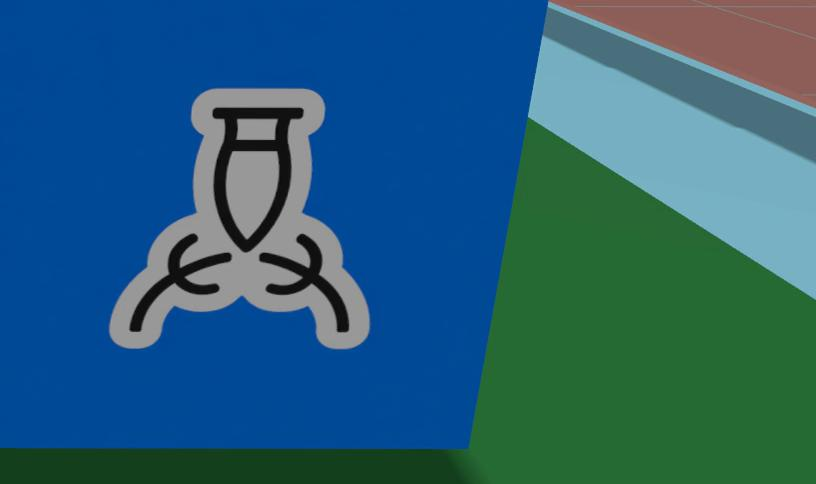KFS_REAL: (0, 0, 547, 449), (108, 89, 370, 349), (270, 244, 270, 246)
